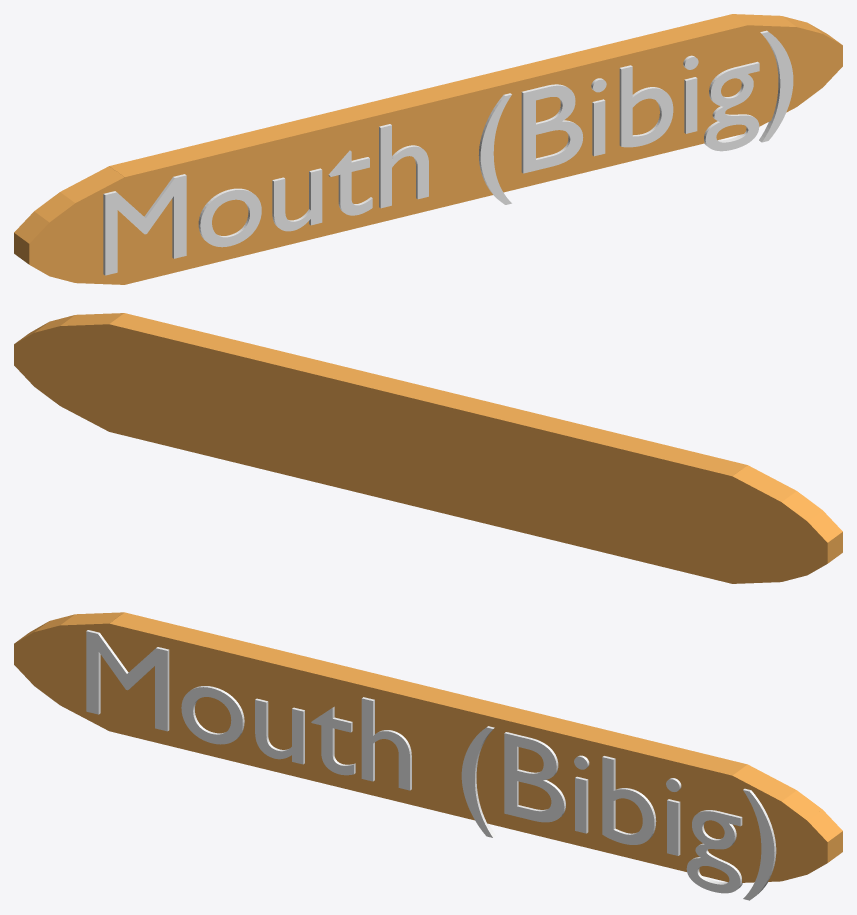
File: txtMouth.fbx
The picture shows the model from 3 angles, top to bottom: view 1: azimuth 30°, elevation 25°; view 2: azimuth 150°, elevation 25°; view 3: azimuth 330°, elevation 25°; orthographic projection.
Parts seen in each view (by area): view 1: TagContainer.074, Text.075; view 2: TagContainer.074; view 3: TagContainer.074, Text.075.
Boxes of the visible parts, x1=… form: TagContainer.074: x1=14, y1=14, x2=842, y2=284; Text.075: x1=103, y1=30, x2=793, y2=275; TagContainer.074: x1=14, y1=313, x2=842, y2=583; TagContainer.074: x1=14, y1=612, x2=842, y2=882; Text.075: x1=86, y1=630, x2=776, y2=900.
Bounding box in the file's own units: 327 × 45.66 × 11.92.
